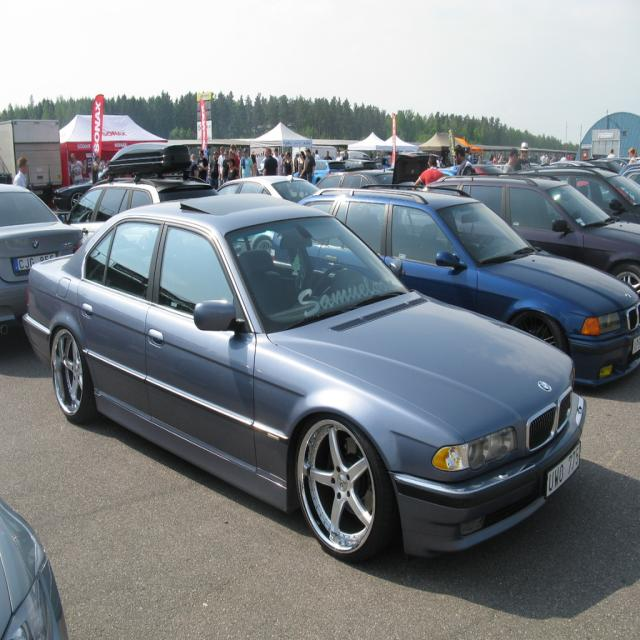car: (24, 202, 593, 559)
